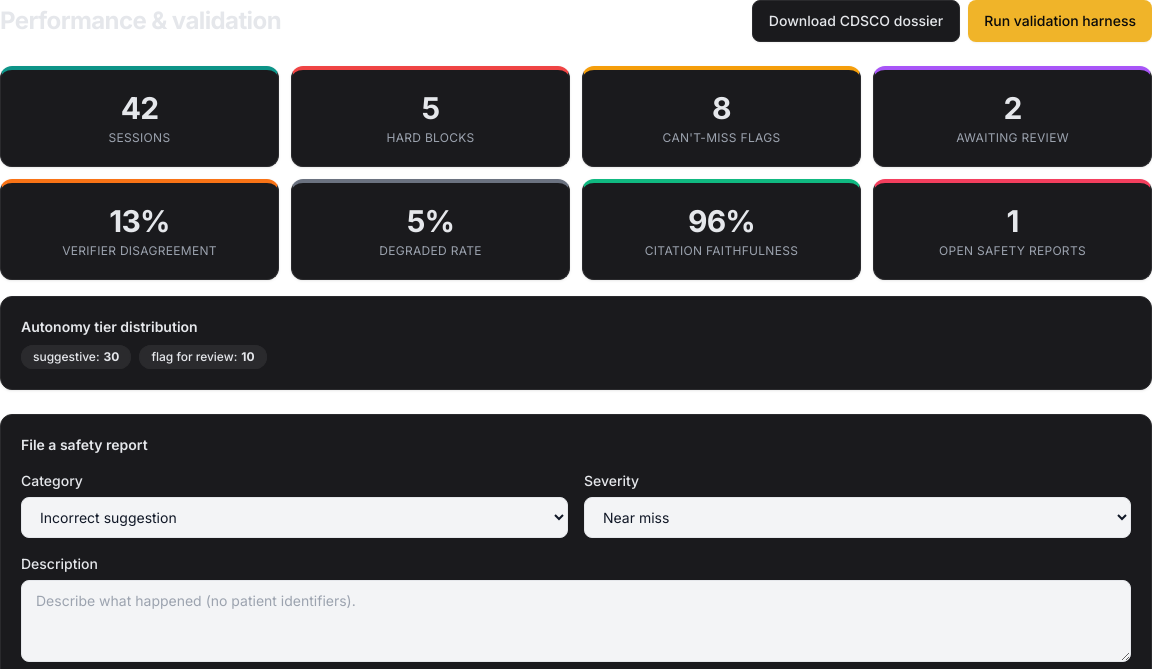
Test: MetricsPage › reports a dossier download failure
Expected: the text "42" is shown, x1=121 y1=90 x2=158 y2=126
Click the button "Download CDSCO dossier" at (856, 21), box x1=752 y1=0 x2=960 y2=42
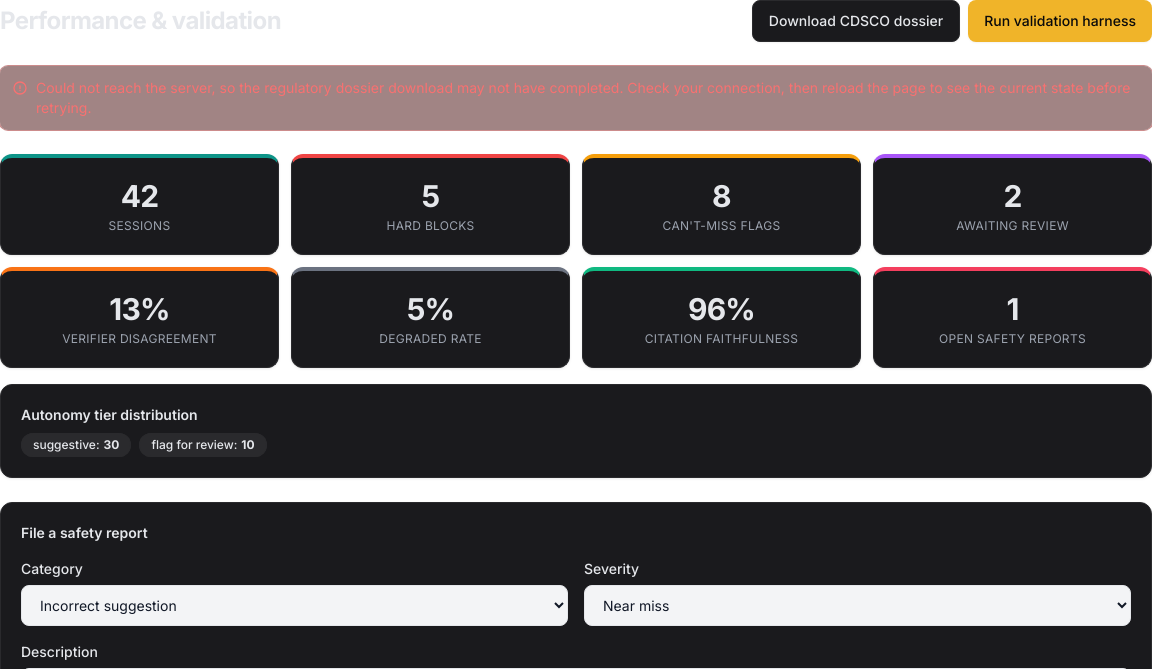
Expected: the text "Could not reach the server, so the regulatory dossier download" is shown, x1=36 y1=79 x2=1130 y2=116
